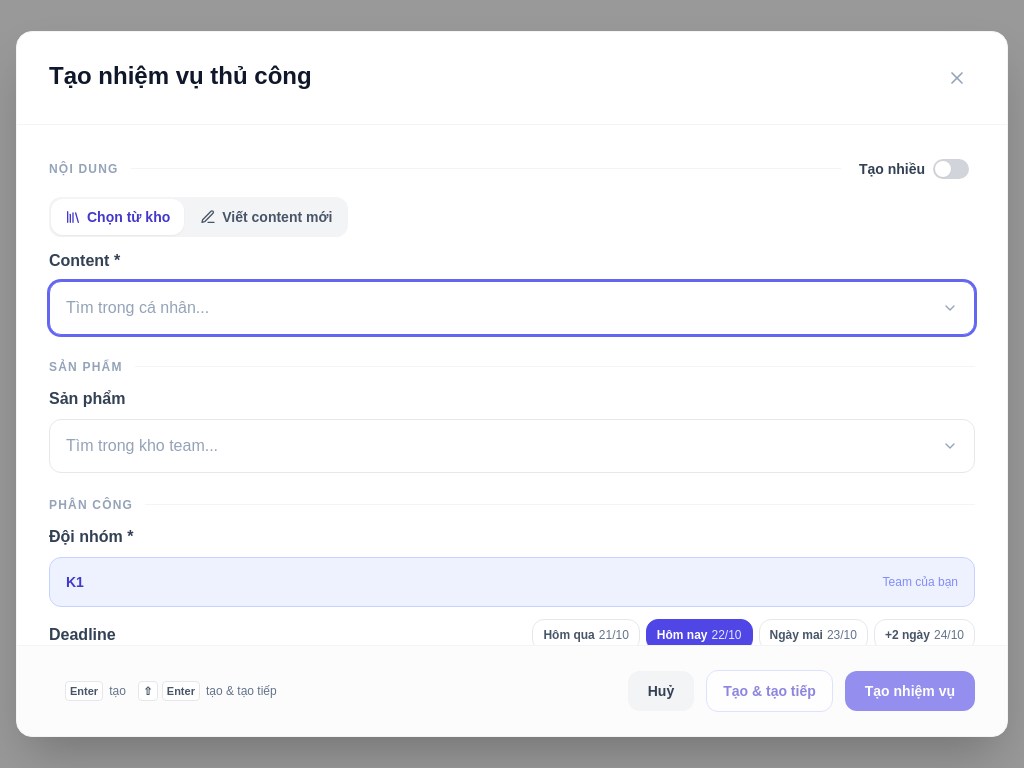
Test: Esc trong dropdown chỉ đóng dropdown, không đóng modal
Click the button "Tìm trong cá nhân...". click: (138, 307)
box: left=49, top=281, right=975, bottom=335
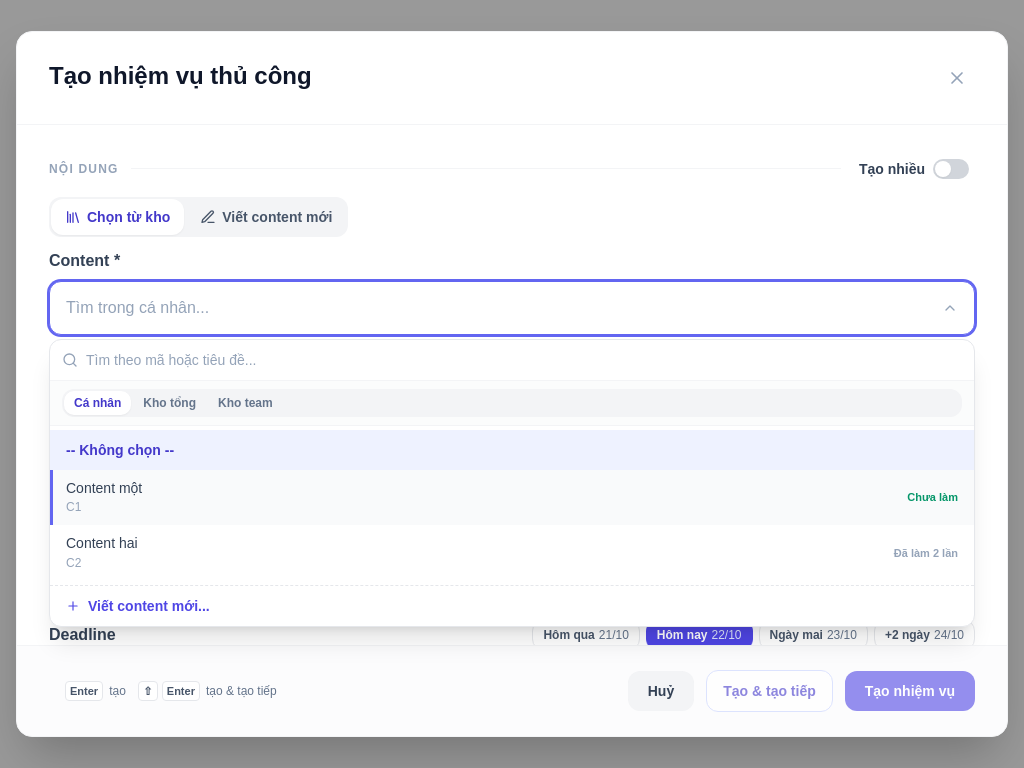
Press Escape in the dropdown with placeholder "Tìm theo mã hoặc tiêu đề...", box left=86, top=350, right=962, bottom=370
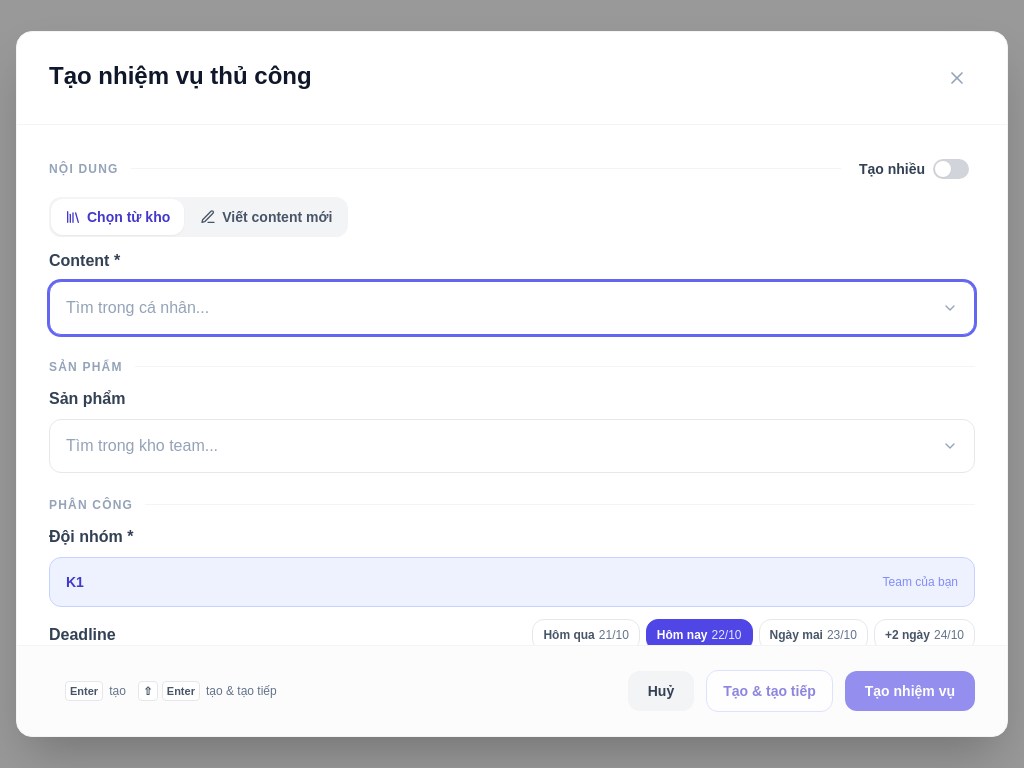
Check: the dropdown is gone
